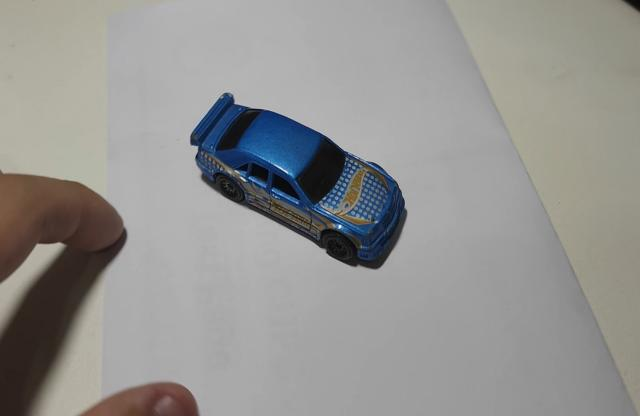04_MERZEDES: (187, 93, 408, 271)
